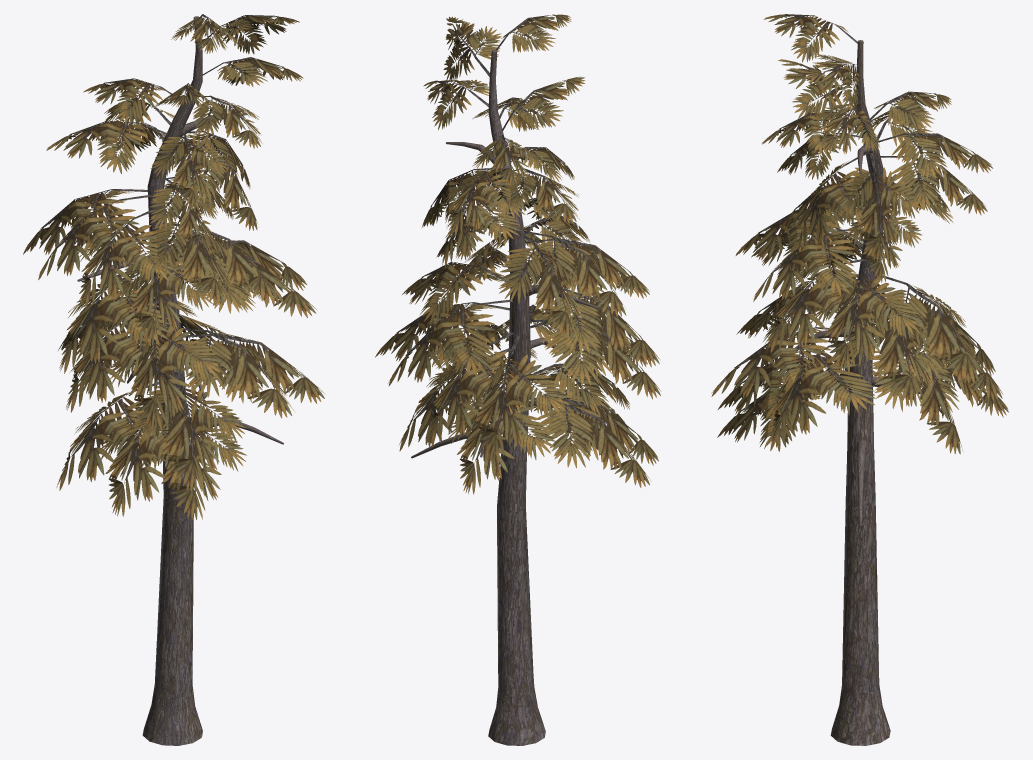
3 renders of one model, left to right at view 1: azimuth 30°, elevation 25°; view 2: azimuth 150°, elevation 25°; view 3: azimuth 270°, elevation 25°, orthographic. The views are drawn at different scales.
Visible parts, largest first — view 1: tree2; view 2: tree2; view 3: tree2.
Boxes of the visible parts, x1=… form: tree2: x1=23, y1=14, x2=325, y2=745; tree2: x1=375, y1=14, x2=661, y2=745; tree2: x1=711, y1=14, x2=1008, y2=745.
Size of the model in its own units: 5.09 by 12.93 by 5.16.
1 material, 1 textured.
